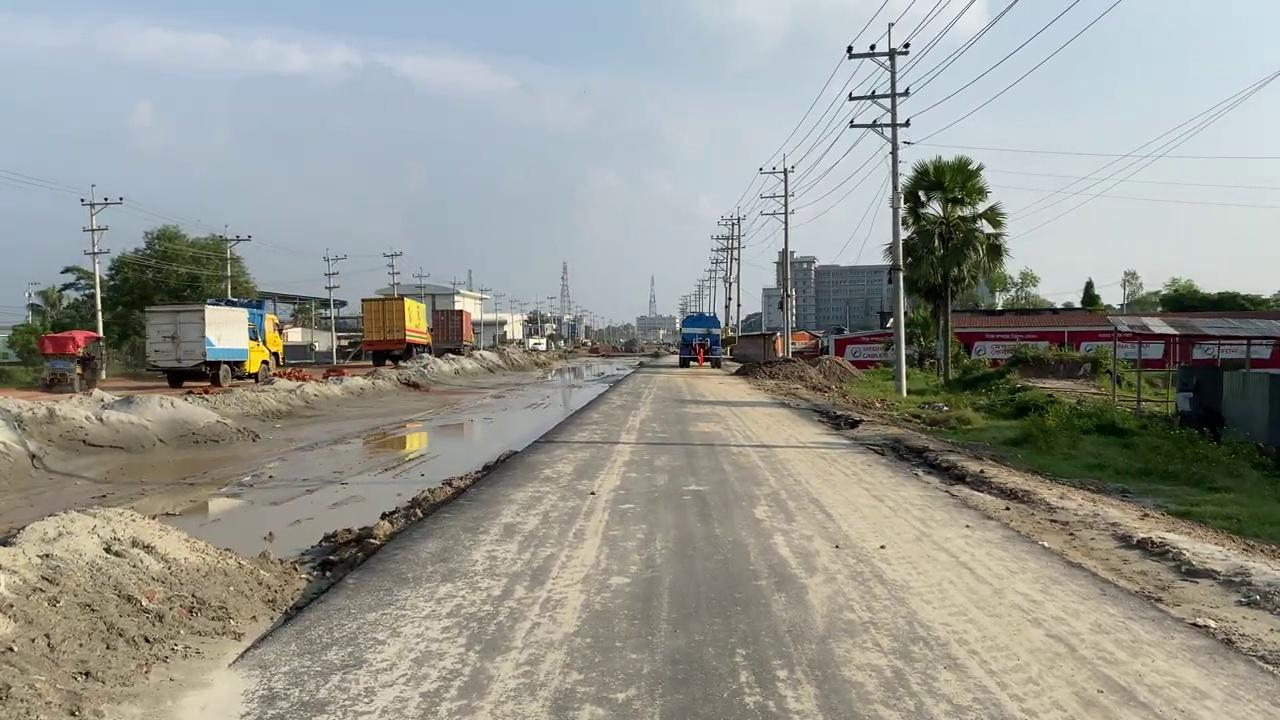Pole: (845, 23, 912, 397), (758, 152, 796, 357)
Sidewalk: (218, 350, 646, 718)
Traffic-sign: (881, 152, 1013, 386)
Tree: (143, 299, 284, 388), (360, 294, 475, 366), (37, 329, 104, 393), (729, 328, 822, 363), (676, 314, 722, 371), (429, 308, 475, 356), (773, 328, 822, 361), (524, 309, 556, 351)
